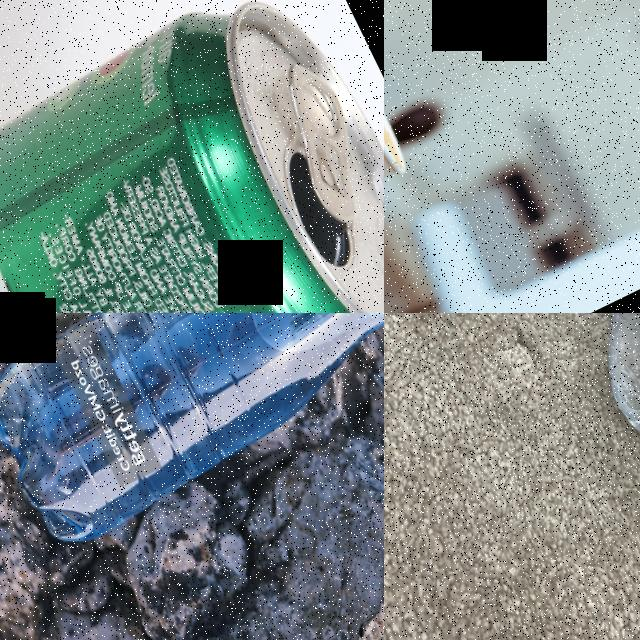bottle: (0, 313, 384, 560), (493, 313, 640, 469)
can: (0, 0, 384, 313)
